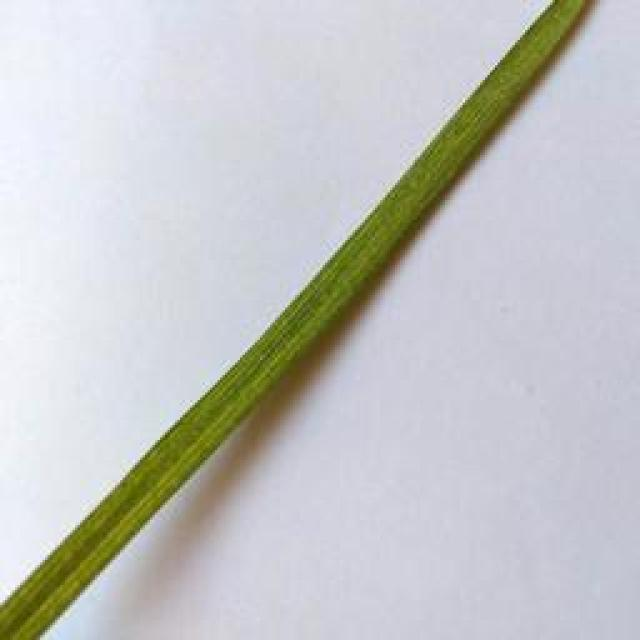Healthy-Plant: (0, 2, 598, 640)
